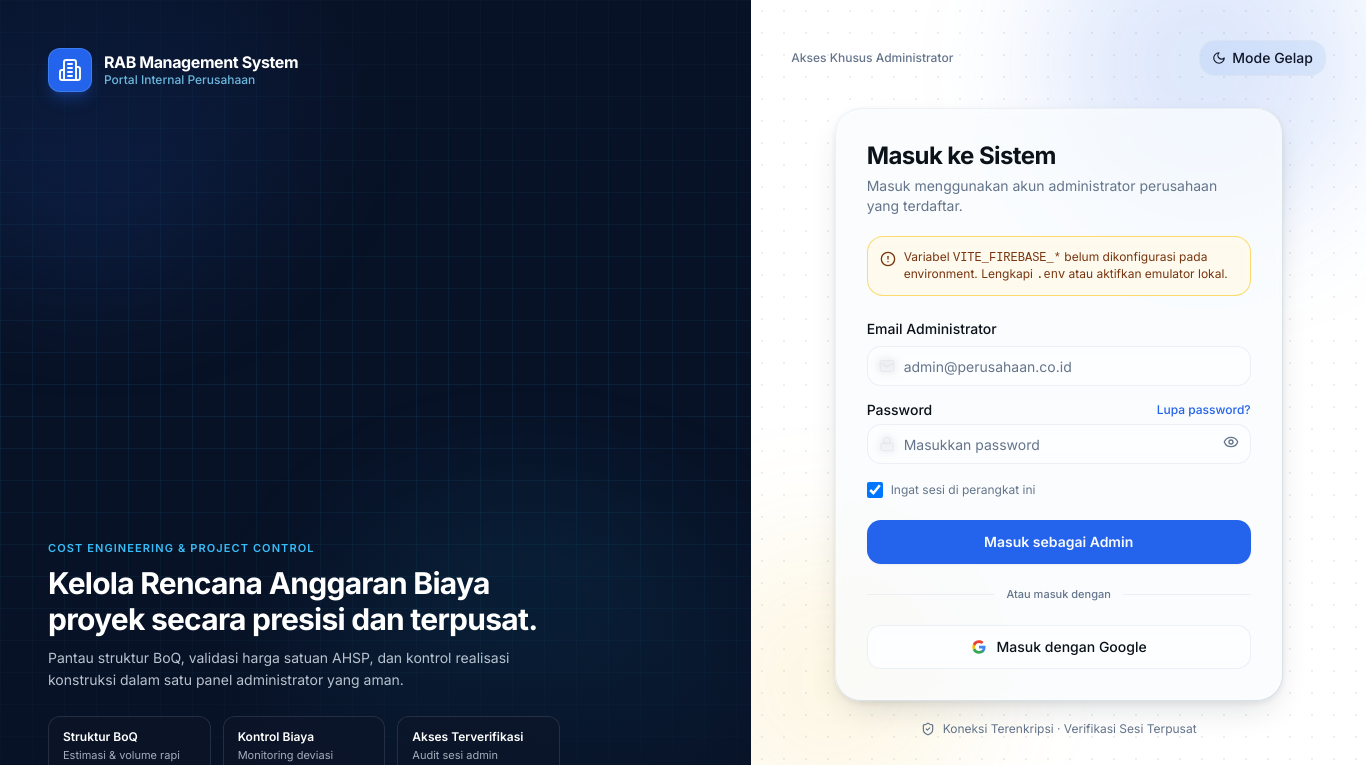
Test: LoginPage › renders architectural showcase, empty login inputs, validates errors, and opens reset modal
Expected: the text "RAB Management System" is shown, x1=104 y1=52 x2=298 y2=72
Expected: the heading "Kelola Rencana Anggaran Biaya proyek secara presisi dan terpusat." is shown, x1=48 y1=564 x2=560 y2=636
Step 1. Click the button "Masuk sebagai Admin" → coordinates (1059, 542), box x1=867 y1=520 x2=1251 y2=564
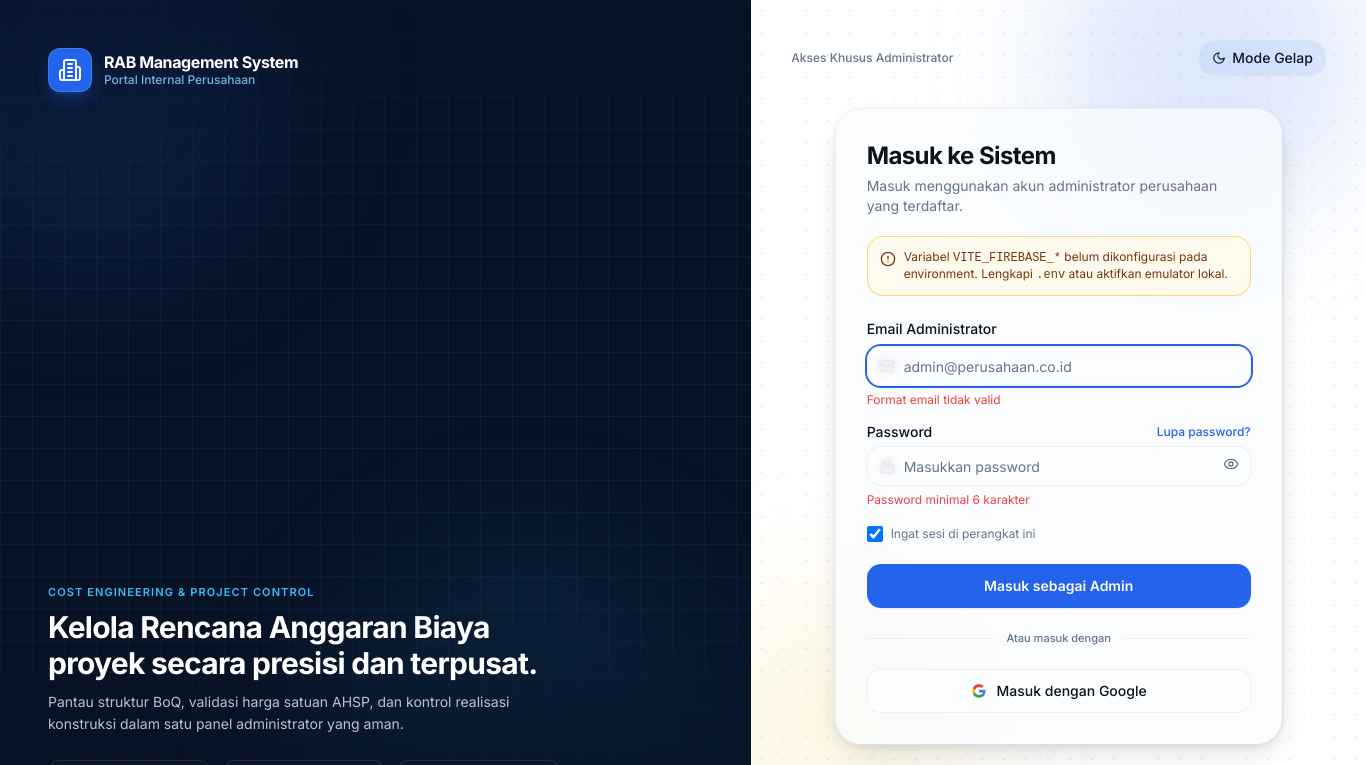
Expected: the text "Format email tidak valid" is shown, x1=867 y1=392 x2=1001 y2=407
Expected: the text "Password minimal 6 karakter" is shown, x1=867 y1=492 x2=1030 y2=507
Step 2. Click the button "Lupa password?" → coordinates (1204, 432), box x1=1157 y1=424 x2=1251 y2=440
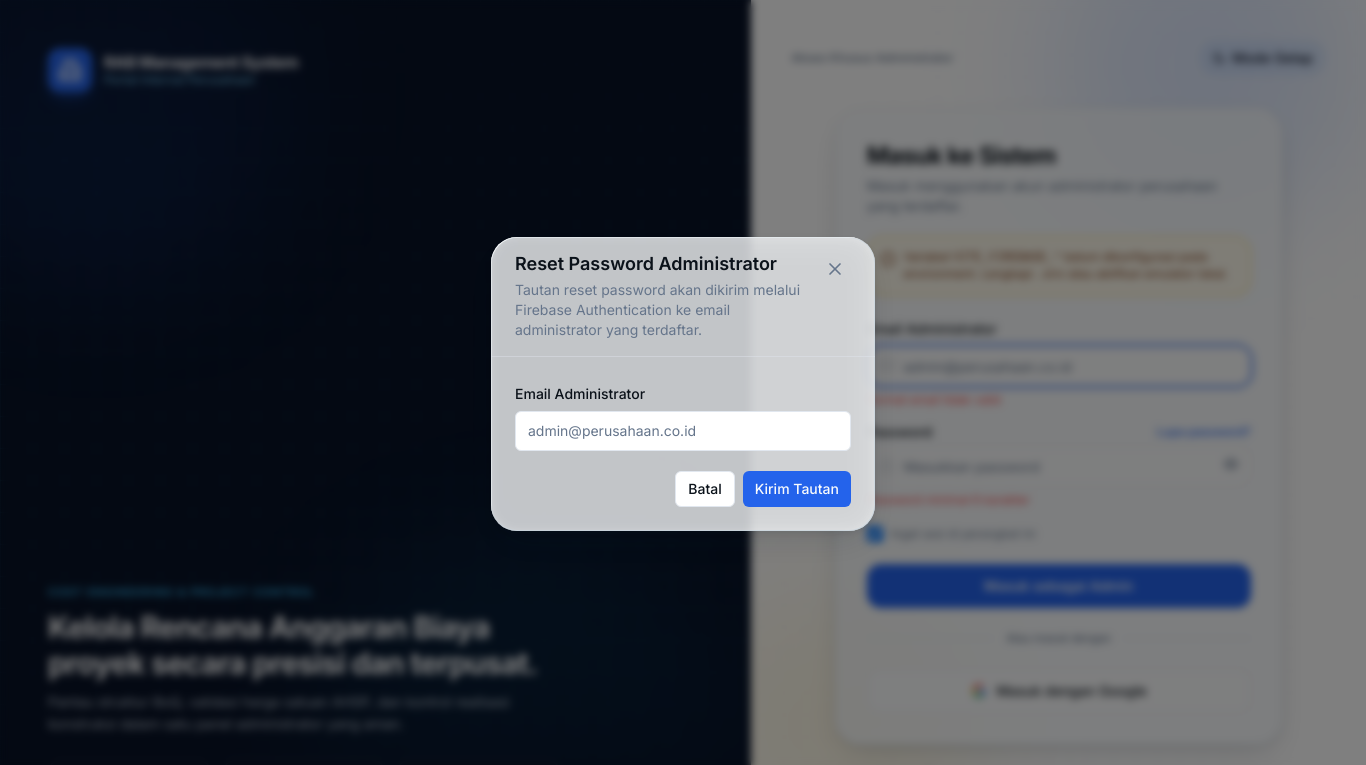
Expected: the button "Masuk dengan Google" is shown, x1=867 y1=668 x2=1251 y2=712
Expected: the heading "Reset Password Administrator" is shown, x1=515 y1=253 x2=803 y2=276
